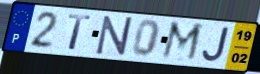0: (131, 18, 162, 60)
2: (27, 10, 60, 50)
J: (200, 27, 231, 65)
M: (159, 19, 206, 64)
N: (95, 15, 134, 57)
T: (66, 13, 93, 52)
